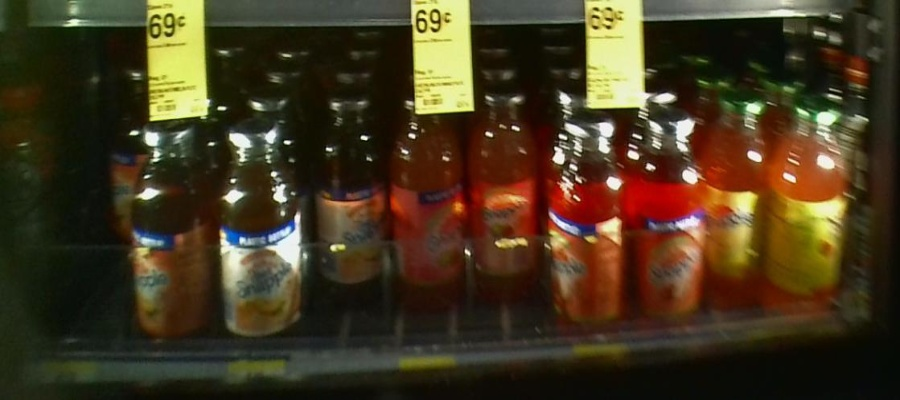bottle: (215, 119, 302, 333), (767, 84, 849, 306), (548, 113, 627, 334), (133, 121, 210, 343), (465, 81, 541, 302), (631, 106, 708, 322), (391, 87, 464, 312), (310, 92, 387, 300), (708, 87, 765, 310), (104, 60, 138, 237)
